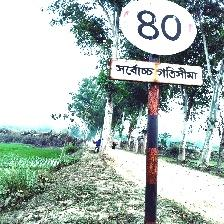Speed-limit: (113, 0, 201, 87)
